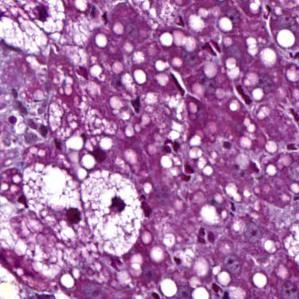ballooning: (22, 161, 92, 251), (79, 168, 147, 259), (5, 3, 69, 58)
